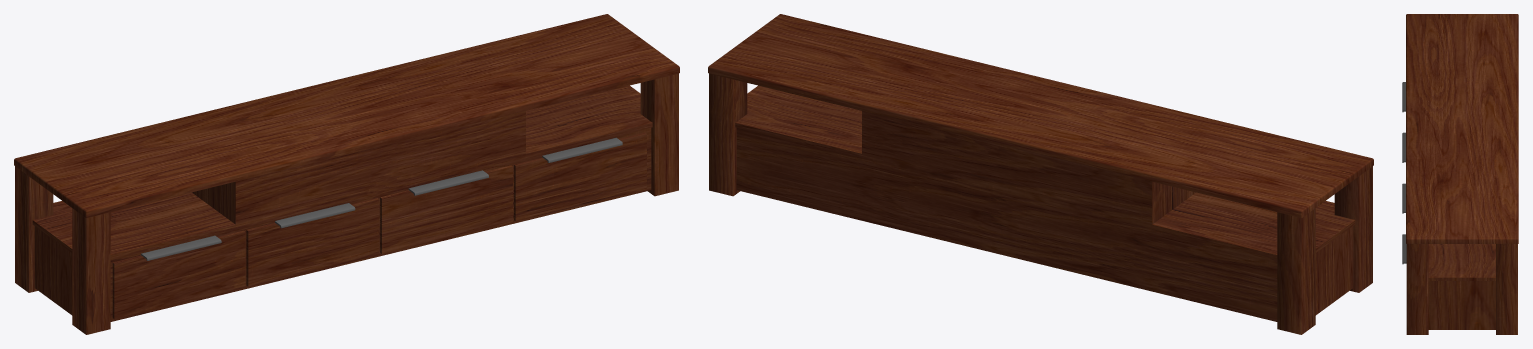
File: media_console_furniture.fbx
3 views of the same model, side by side, from view 1: azimuth 30°, elevation 25°; view 2: azimuth 150°, elevation 25°; view 3: azimuth 270°, elevation 25° (orthographic). The views are drawn at different scales.
Visible parts, largest first — view 1: media console lowpoly.002; view 2: media console lowpoly.002; view 3: media console lowpoly.002.
Boxes of the visible parts, left/top/right/bottom form: media console lowpoly.002: left=14, top=14, right=679, bottom=334; media console lowpoly.002: left=708, top=14, right=1373, bottom=334; media console lowpoly.002: left=1402, top=14, right=1518, bottom=334.
Bounding box in the file's own units: 259 × 51.84 × 56.71.
